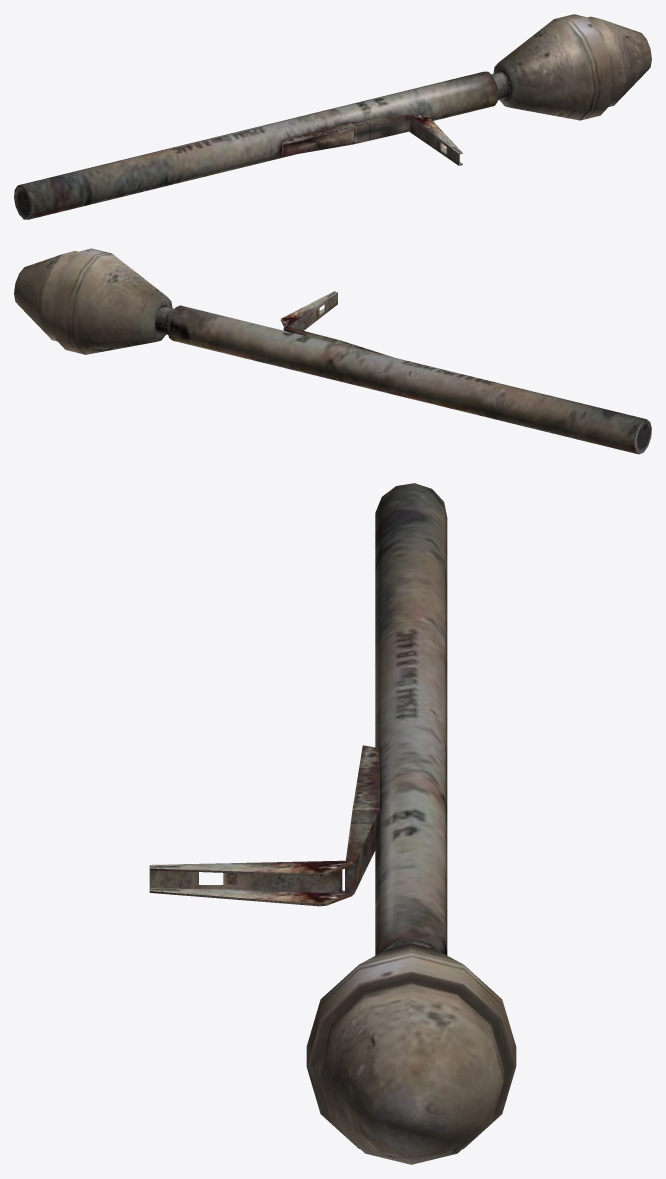
The model's file is weapon_panzerfaust.glb.
3 views of the same model, one above another, from view 1: azimuth 30°, elevation 25°; view 2: azimuth 150°, elevation 25°; view 3: azimuth 270°, elevation 25° (orthographic). The views are drawn at different scales.
Size of the model in its own units: 42.15 by 6.19 by 10.82.
1 material, 1 textured.
